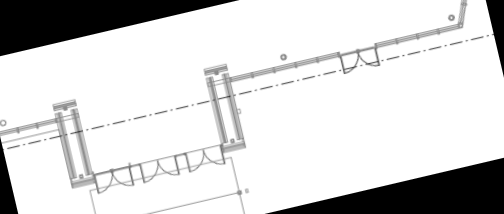double door: (90, 162, 137, 198), (136, 152, 183, 186), (182, 142, 229, 175), (337, 43, 382, 76)
